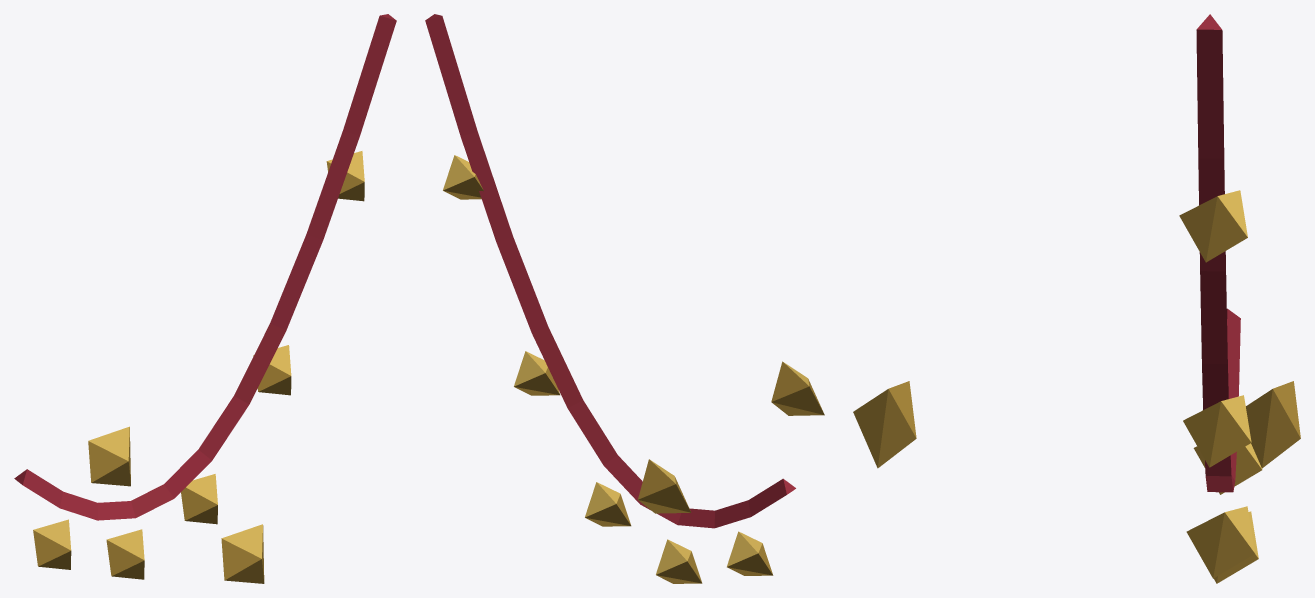
File: gd_camel_bells.glb
3 views of the same model, side by side, from view 1: azimuth 30°, elevation 25°; view 2: azimuth 150°, elevation 25°; view 3: azimuth 270°, elevation 25° (orthographic). The views are drawn at different scales.
Visible parts, largest first — view 1: base; view 2: base; view 3: base.
Boxes of the visible parts, x1,y1,x2,y2 form: base: (14, 14, 396, 583); base: (425, 14, 824, 583); base: (853, 14, 1300, 583).
Size of the model in its own units: 0.2042 by 0.2697 by 0.1492.
